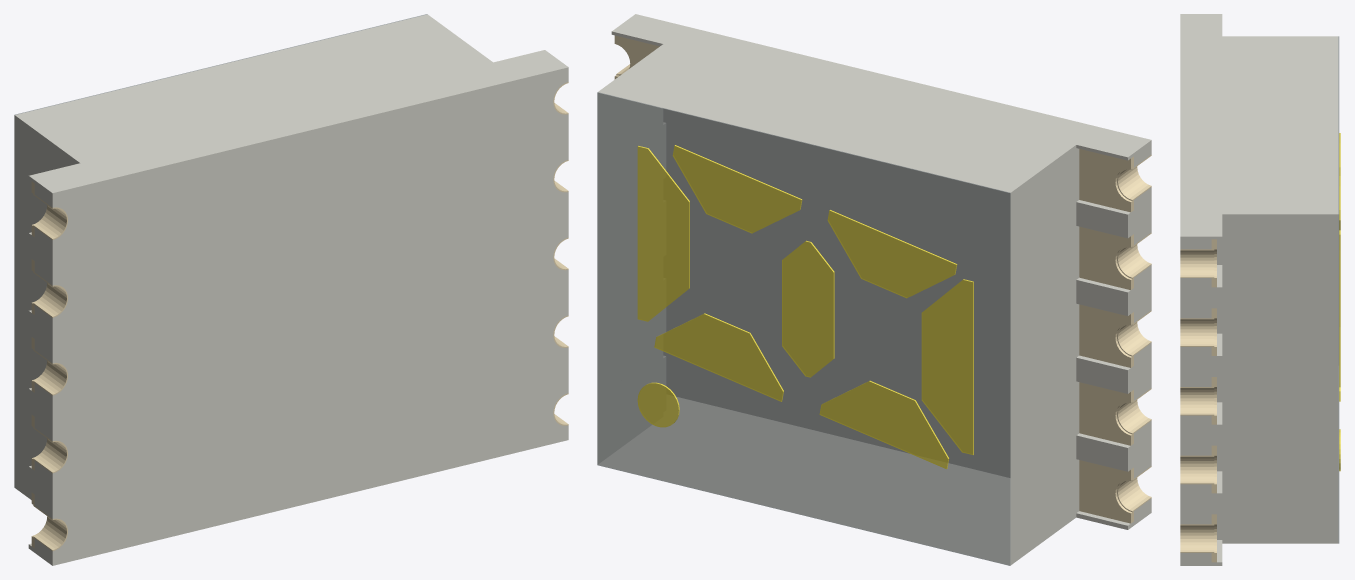
File: KCSC02-107.glb
3 views of the same model, side by side, from view 1: azimuth 30°, elevation 25°; view 2: azimuth 150°, elevation 25°; view 3: azimuth 270°, elevation 25° (orthographic). The views are drawn at different scales.
Visible parts, largest first — view 1: Shape_IndexedFaceSet.077, Shape_IndexedFaceSet.063, Shape_IndexedFaceSet.065, Shape_IndexedFaceSet.124, Shape_IndexedFaceSet.118, Shape_IndexedFaceSet.122, Shape_IndexedFaceSet.120, Shape_IndexedFaceSet.053; view 2: Shape_IndexedFaceSet, Shape_IndexedFaceSet.077, Shape_IndexedFaceSet.063, Shape_IndexedFaceSet.064, Shape_IndexedFaceSet.065, Shape_IndexedFaceSet.062, Shape_IndexedFaceSet.061, Shape_IndexedFaceSet.057, Shape_IndexedFaceSet.059, Shape_IndexedFaceSet.054, Shape_IndexedFaceSet.060, Shape_IndexedFaceSet.058 (+21 smaller); view 3: Shape_IndexedFaceSet.063, Shape_IndexedFaceSet.062, Shape_IndexedFaceSet.073, Shape_IndexedFaceSet.071, Shape_IndexedFaceSet.067, Shape_IndexedFaceSet.069, Shape_IndexedFaceSet.075, Shape_IndexedFaceSet.096, Shape_IndexedFaceSet.104, Shape_IndexedFaceSet.108, Shape_IndexedFaceSet.100, Shape_IndexedFaceSet.050 (+17 smaller).
Part boxes in pixels (x1=…): Shape_IndexedFaceSet.077: x1=52, y1=67, x2=568, y2=565; Shape_IndexedFaceSet.063: x1=16, y1=15, x2=568, y2=193; Shape_IndexedFaceSet.065: x1=15, y1=116, x2=79, y2=499; Shape_IndexedFaceSet.124: x1=28, y1=228, x2=52, y2=284; Shape_IndexedFaceSet.118: x1=28, y1=462, x2=52, y2=517; Shape_IndexedFaceSet.122: x1=28, y1=306, x2=52, y2=361; Shape_IndexedFaceSet.120: x1=28, y1=384, x2=52, y2=439; Shape_IndexedFaceSet.053: x1=14, y1=115, x2=15, y2=488; Shape_IndexedFaceSet: x1=597, y1=93, x2=1010, y2=565; Shape_IndexedFaceSet.077: x1=663, y1=108, x2=1010, y2=477; Shape_IndexedFaceSet.063: x1=599, y1=14, x2=1151, y2=191; Shape_IndexedFaceSet.064: x1=599, y1=397, x2=1010, y2=564; Shape_IndexedFaceSet.065: x1=1011, y1=145, x2=1076, y2=564; Shape_IndexedFaceSet.062: x1=599, y1=92, x2=662, y2=463; Shape_IndexedFaceSet.061: x1=637, y1=146, x2=689, y2=321; Shape_IndexedFaceSet.057: x1=921, y1=280, x2=972, y2=454; Shape_IndexedFaceSet.059: x1=782, y1=241, x2=833, y2=377; Shape_IndexedFaceSet.054: x1=654, y1=314, x2=782, y2=401; Shape_IndexedFaceSet.060: x1=672, y1=145, x2=801, y2=233; Shape_IndexedFaceSet.058: x1=827, y1=210, x2=956, y2=298; Shape_IndexedFaceSet.063: x1=1180, y1=14, x2=1336, y2=236; Shape_IndexedFaceSet.062: x1=1222, y1=214, x2=1336, y2=543; Shape_IndexedFaceSet.073: x1=1222, y1=423, x2=1264, y2=471; Shape_IndexedFaceSet.071: x1=1222, y1=354, x2=1264, y2=402; Shape_IndexedFaceSet.067: x1=1222, y1=217, x2=1264, y2=264; Shape_IndexedFaceSet.069: x1=1222, y1=286, x2=1264, y2=333; Shape_IndexedFaceSet.075: x1=1222, y1=492, x2=1264, y2=539; Shape_IndexedFaceSet.096: x1=1180, y1=279, x2=1222, y2=317; Shape_IndexedFaceSet.104: x1=1180, y1=416, x2=1222, y2=454; Shape_IndexedFaceSet.108: x1=1180, y1=485, x2=1222, y2=523; Shape_IndexedFaceSet.100: x1=1180, y1=348, x2=1222, y2=385; Shape_IndexedFaceSet.050: x1=1336, y1=214, x2=1338, y2=543.
Bounding box in the file's own units: 3.94 × 2.72 × 1.2.
